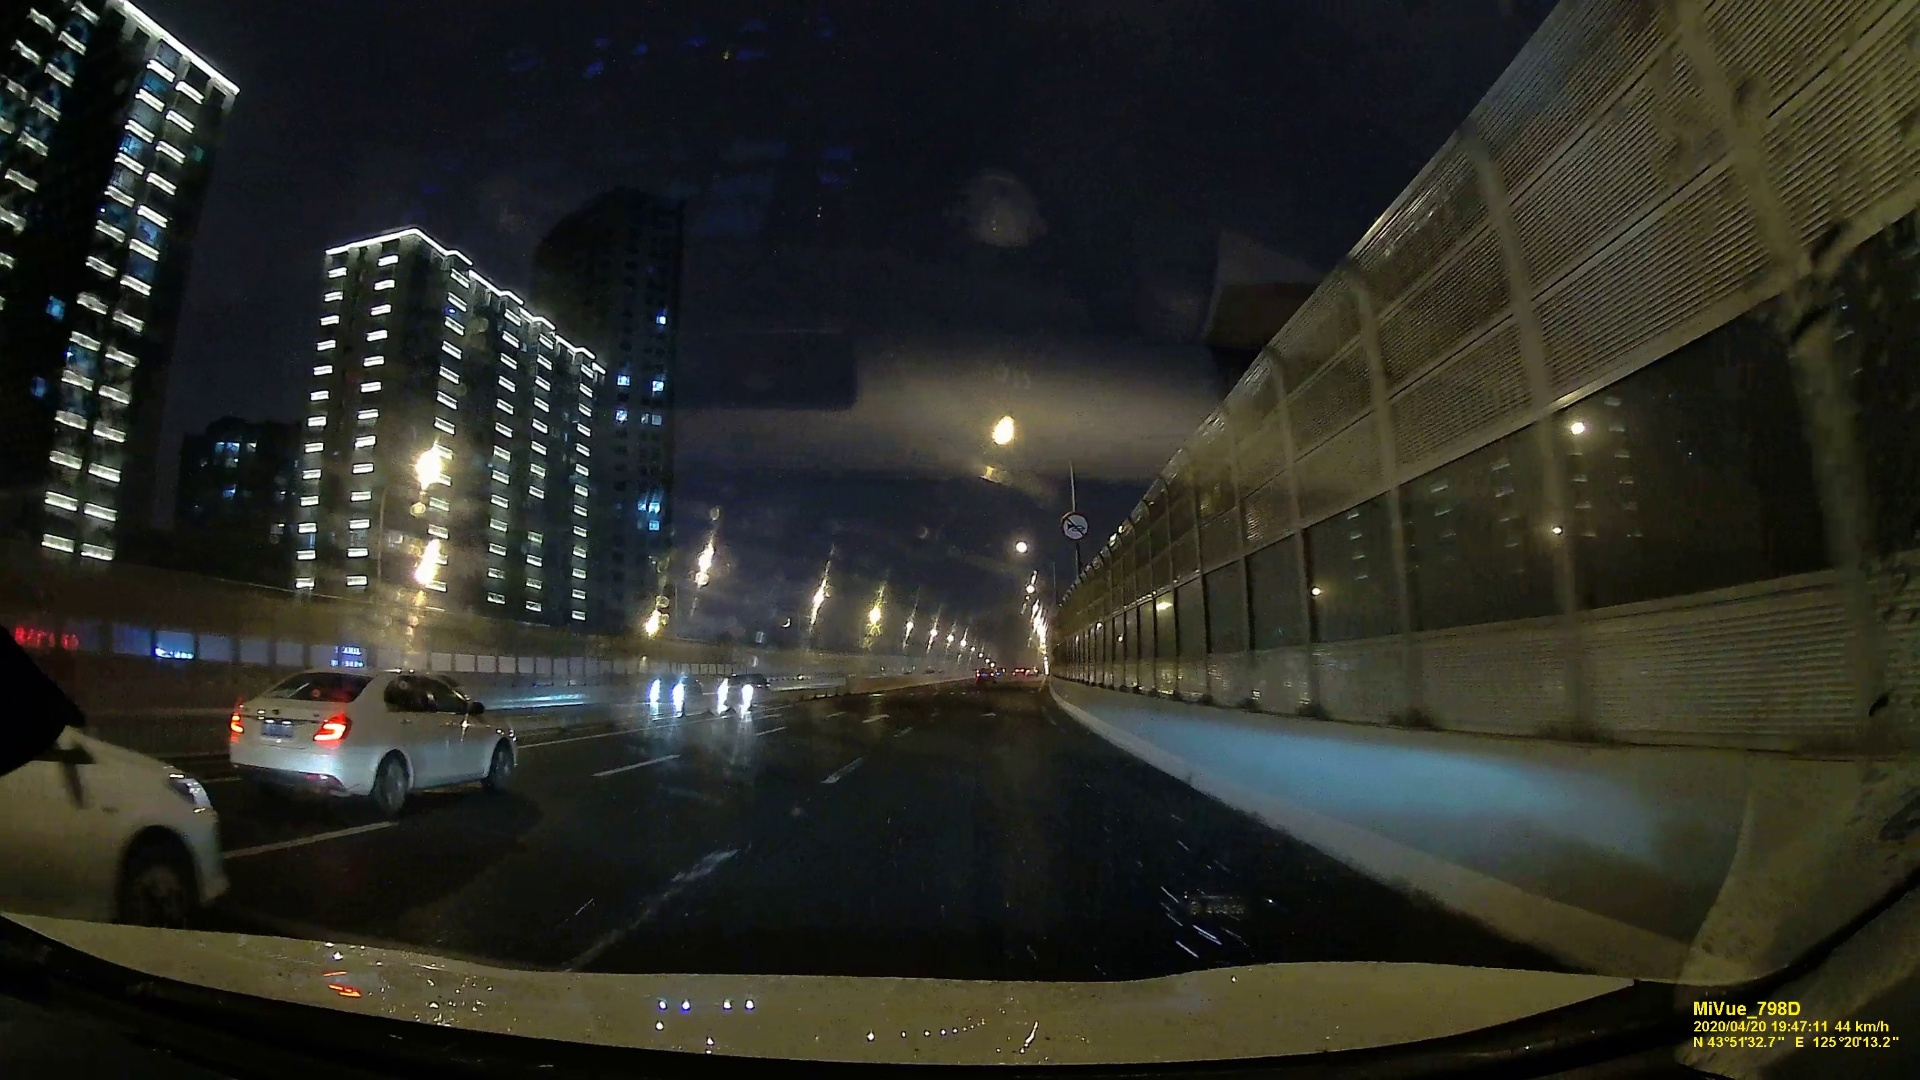traffic_sign: (1059, 510, 1092, 542)
vehicle: (227, 661, 517, 822), (715, 675, 775, 708), (645, 673, 700, 705)
